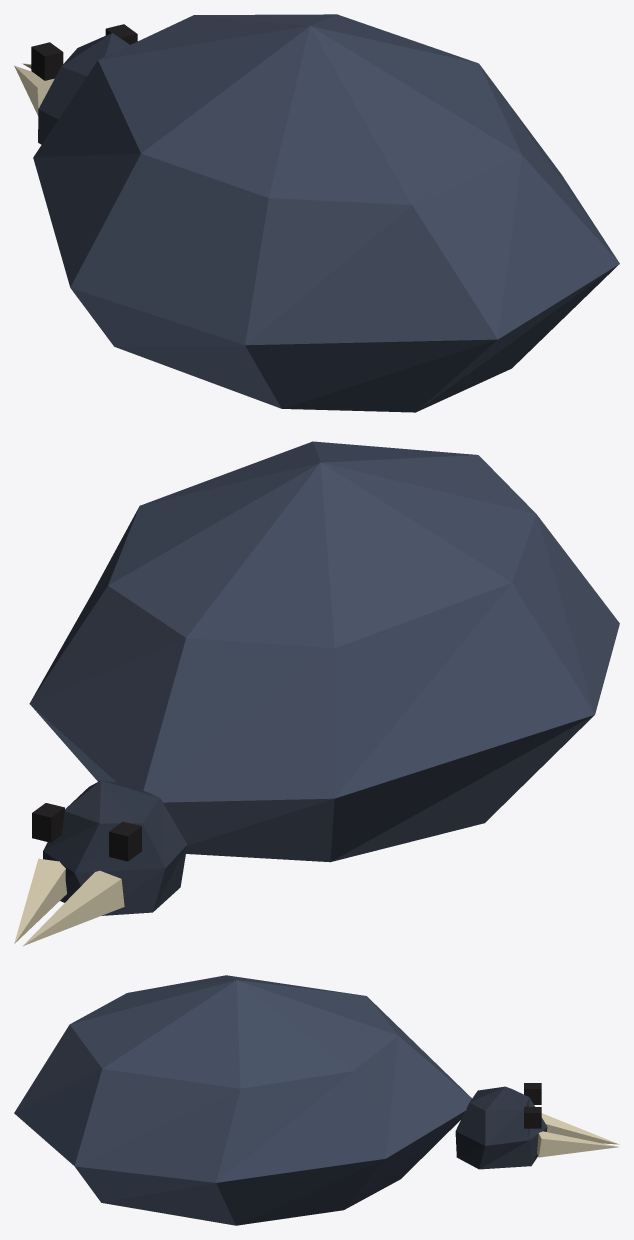
Rendered from animal_megascarab.obj.
The picture shows the model from 3 angles, top to bottom: view 1: azimuth 30°, elevation 25°; view 2: azimuth 150°, elevation 25°; view 3: azimuth 270°, elevation 25°; orthographic projection. The views are drawn at different scales.
Visible parts, largest first — view 1: animal_megascarab; view 2: animal_megascarab; view 3: animal_megascarab.
Boxes of the visible parts, bbox=[...] form: animal_megascarab: bbox=[14, 14, 619, 412]; animal_megascarab: bbox=[14, 441, 619, 945]; animal_megascarab: bbox=[14, 975, 619, 1225].
Size of the model in its own units: 0.3314 by 0.2117 by 0.5432.
